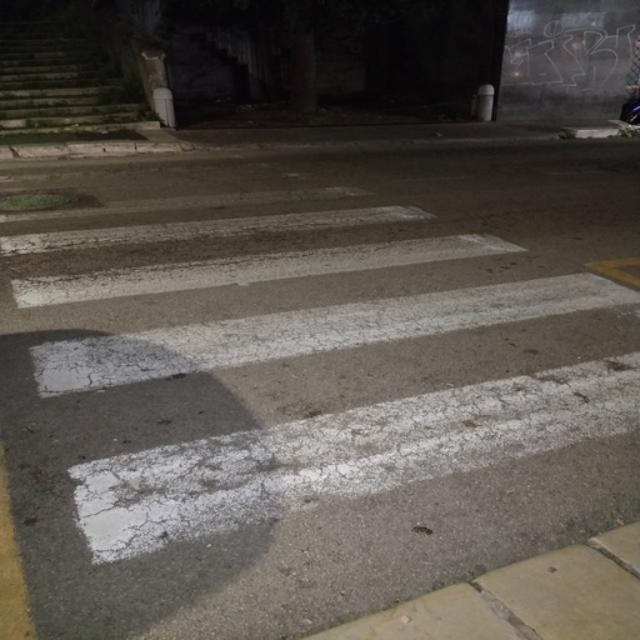sidewalk: (0, 158, 640, 569)
